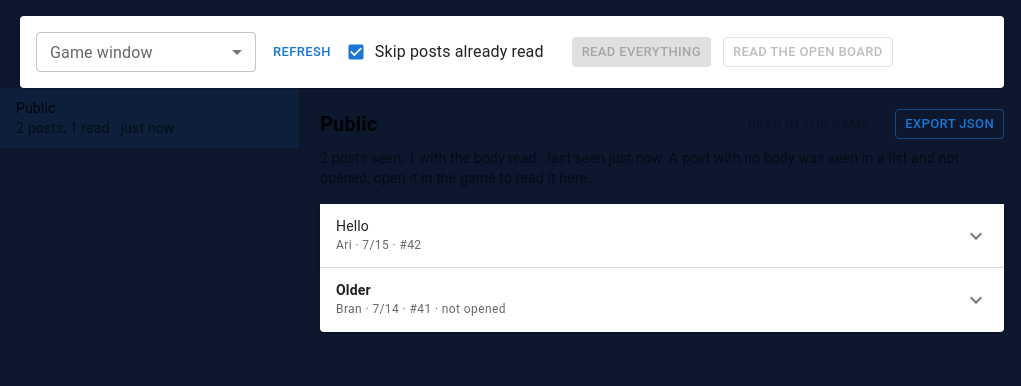
Test: the Boards page › exports the shown board and says where it went
Expected: the element with test id "board-view" is shown, top-left (320, 108), bottom-right (1004, 332)
Click the button with test id "board-export": (950, 124) top-left (895, 109), bottom-right (1004, 139)
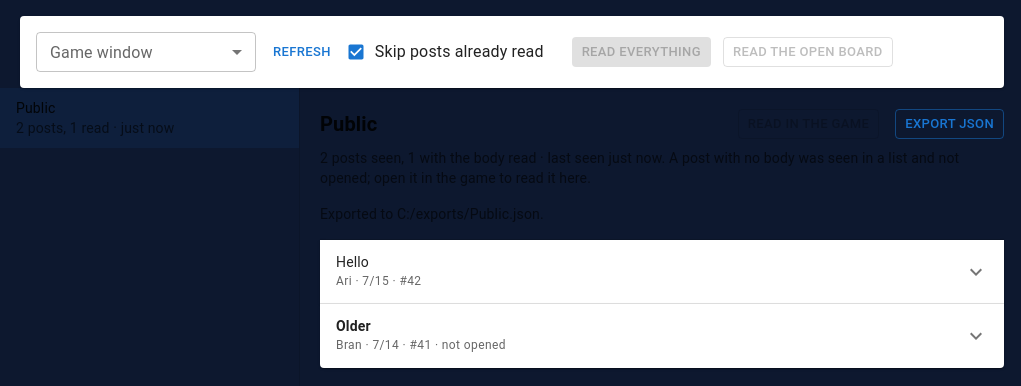
Expected: the text "Exported to C:/exports/Public.json." is shown, top-left (320, 206), bottom-right (544, 222)
